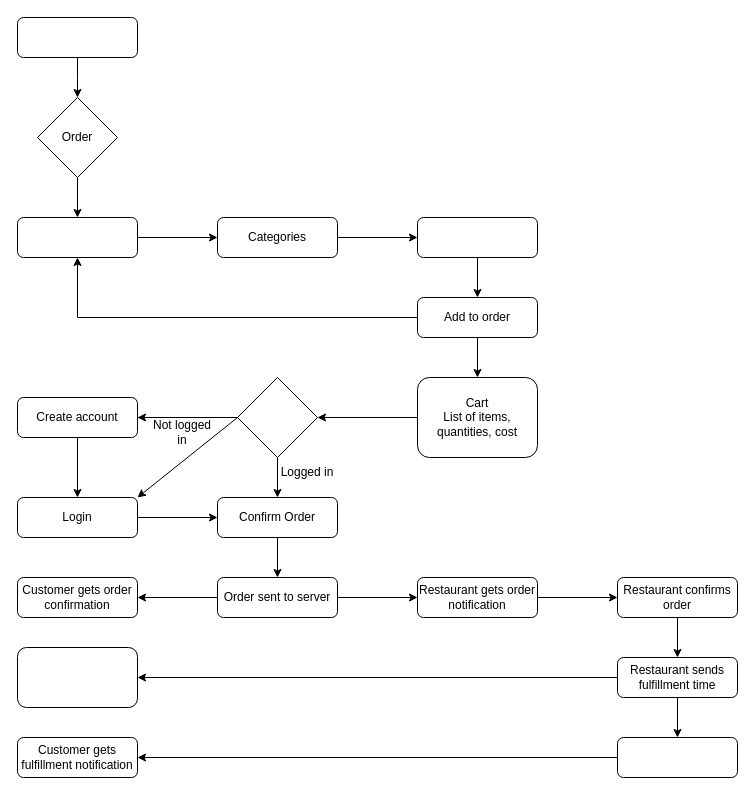
The diagram is 755 pixels wide and 795 high, and some of its shapes have lost their labels. The centre of each missing label's shape, as x and y in pixels:
"Checkout" belongs at (x=277, y=417).
"Customer gets confirmation notification" belongs at (x=77, y=677).
"Item Details" belongs at (x=477, y=237).
"Landing page" belongs at (x=77, y=37).
"Menu" belongs at (x=77, y=237).
"Restaurant fulfills order" belongs at (x=677, y=757).
